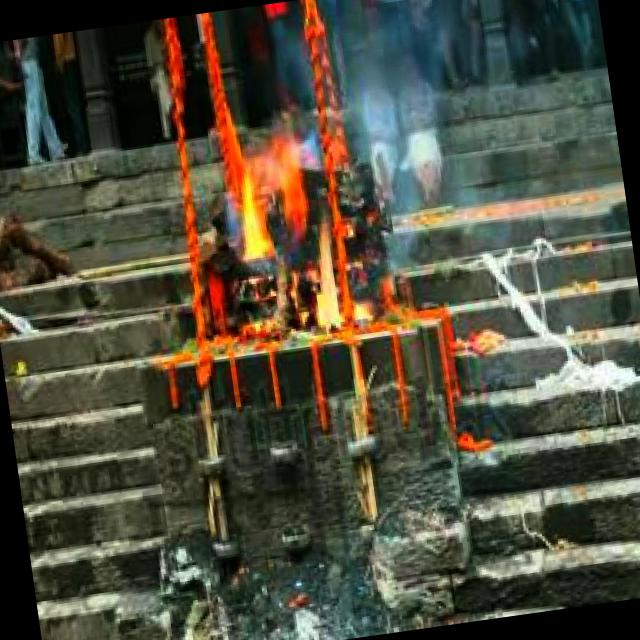fire: (228, 125, 349, 343)
